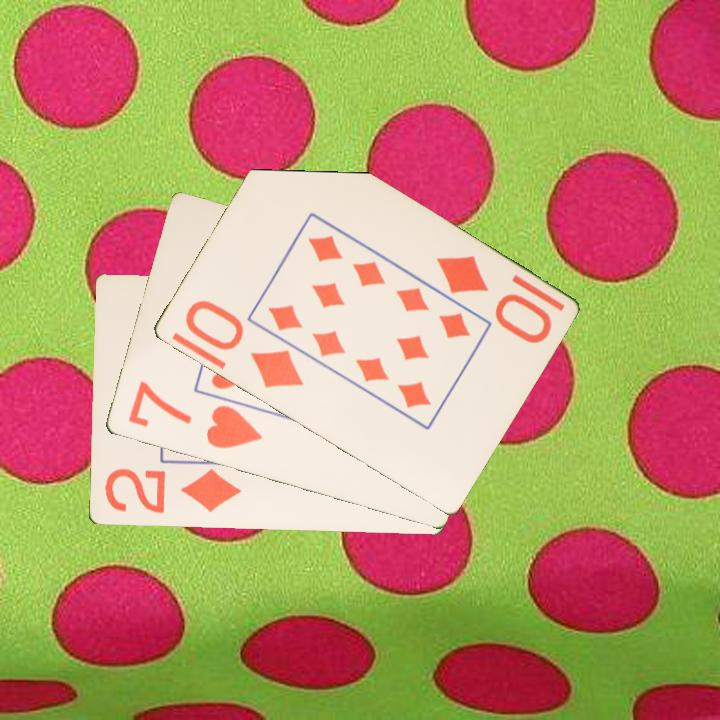10d: (180, 296, 306, 392), (432, 251, 555, 347)
2d: (100, 465, 244, 517)
7h: (124, 377, 265, 452)
